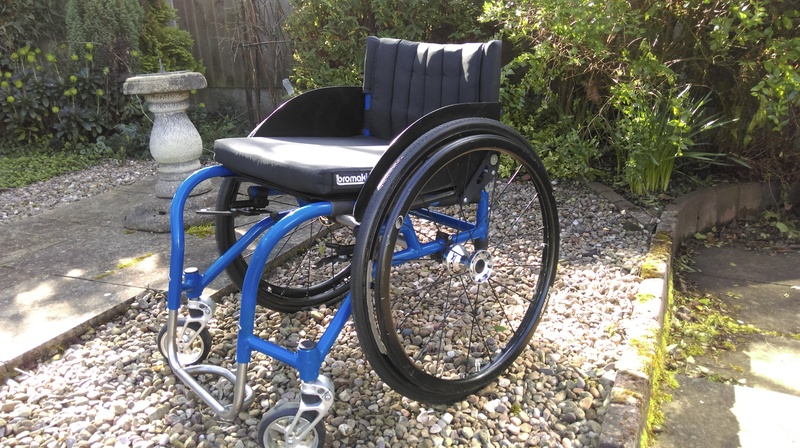wheelchair: (153, 50, 560, 436)
